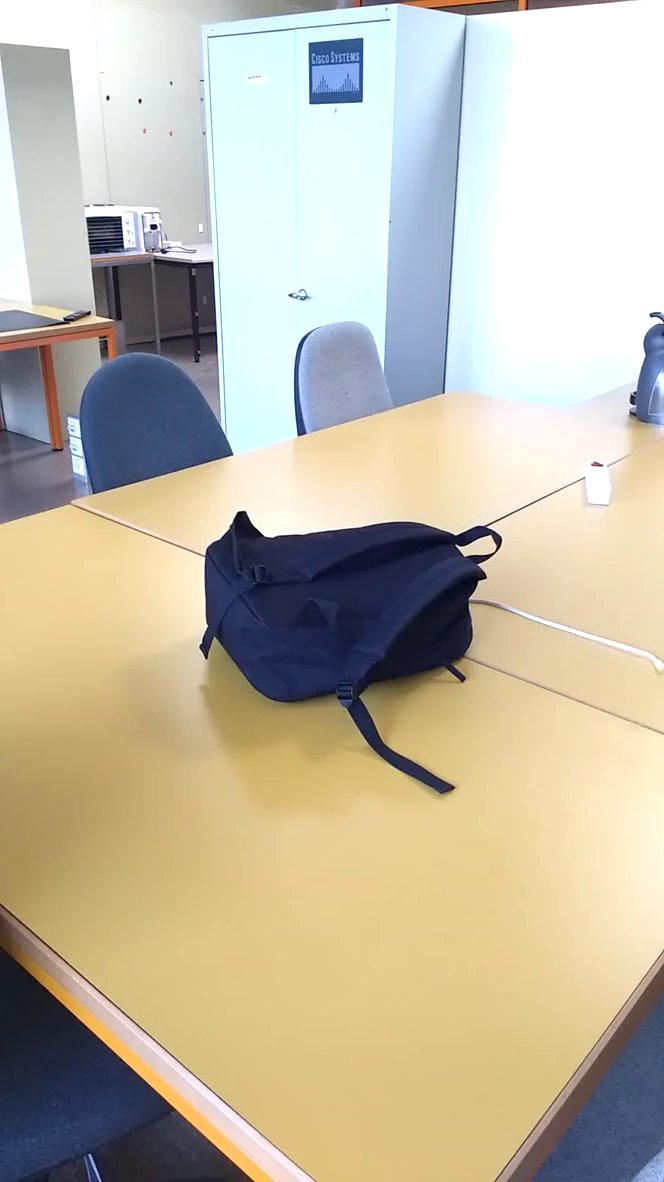bag: (180, 490, 507, 806)
chair: (66, 333, 253, 496), (285, 312, 412, 451)
